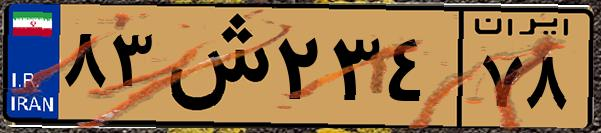2: (270, 28, 330, 110)
3: (330, 28, 385, 110), (110, 28, 158, 98)
4: (385, 28, 445, 110)
7: (475, 38, 525, 113)
8: (57, 26, 110, 100), (525, 38, 570, 115)
ش: (158, 12, 270, 120)
